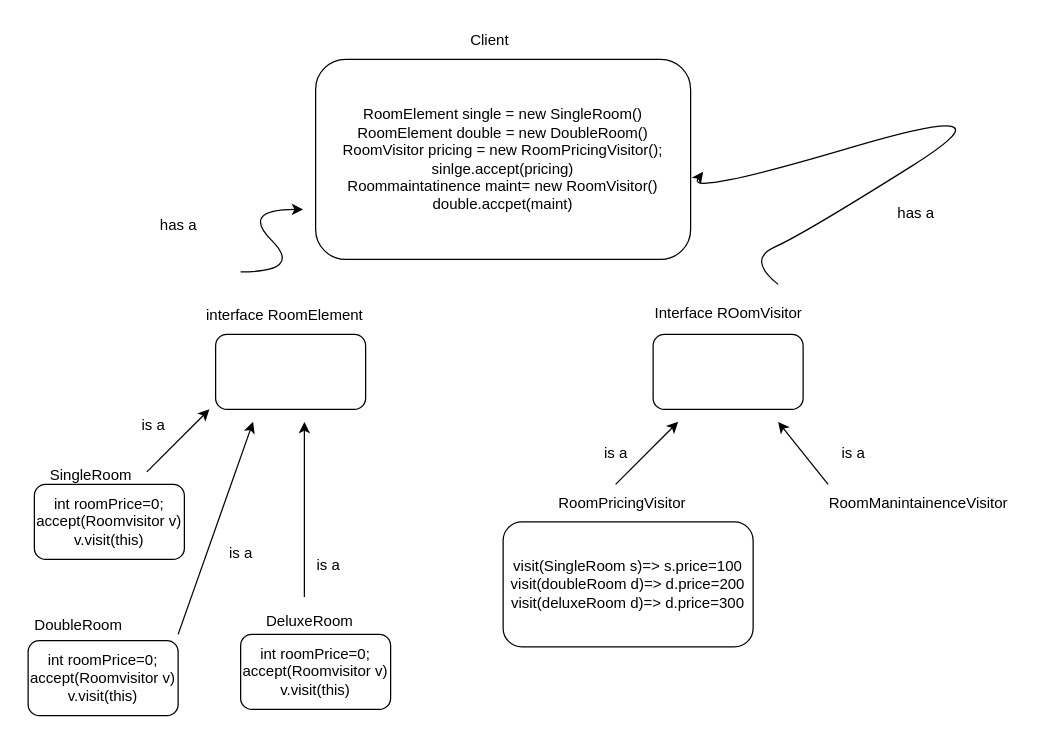
This 1045x738 diagram has some shape labels left out. The centre of each missing label's shape, as x and y in pixels:
"accept(Roomvisitor v)" goes at [290,371].
"visit(SingleRoom s) visit(DeluxeRoom d) visit(DoubleRoom d2)" goes at [727,371].
